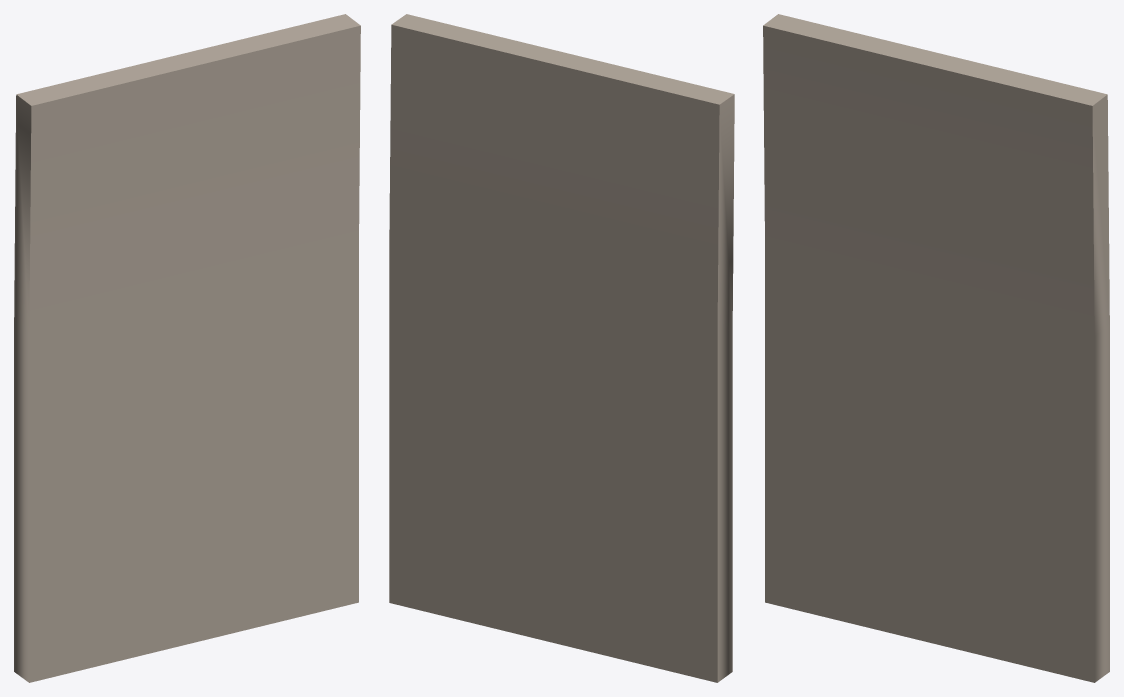
The model's file is SpawnDoor.fbx.
3 renders of one model, left to right at view 1: azimuth 30°, elevation 25°; view 2: azimuth 150°, elevation 25°; view 3: azimuth 330°, elevation 25°, orthographic.
Visible parts, largest first — view 1: Door; view 2: Door; view 3: Door.
Boxes of the visible parts, x1=… form: Door: x1=14, y1=14, x2=360, y2=682; Door: x1=389, y1=14, x2=734, y2=682; Door: x1=763, y1=14, x2=1109, y2=682.
Bounding box in the file's own units: 90 × 151 × 8.19.
